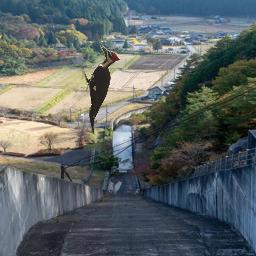Woodpecker: (80, 45, 121, 134)
